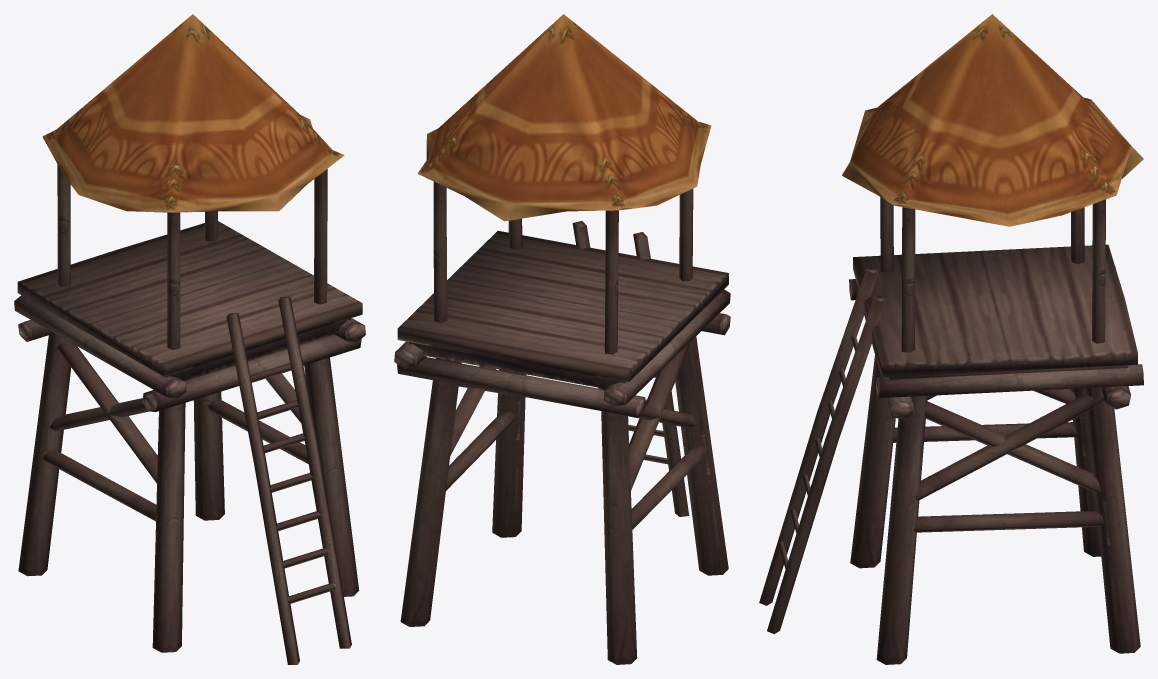
File: Anmaodao_mudengzi02.FBX
3 renders of one model, left to right at view 1: azimuth 30°, elevation 25°; view 2: azimuth 150°, elevation 25°; view 3: azimuth 270°, elevation 25°, orthographic. The views are drawn at different scales.
Parts seen in each view (by area): view 1: Anmaodao_mudengzi02; view 2: Anmaodao_mudengzi02; view 3: Anmaodao_mudengzi02.
Boxes of the visible parts, bbox=[...] form: Anmaodao_mudengzi02: bbox=[14, 14, 365, 664]; Anmaodao_mudengzi02: bbox=[394, 14, 730, 664]; Anmaodao_mudengzi02: bbox=[759, 14, 1143, 664].
Size of the model in its own units: 127 by 163 by 277.
